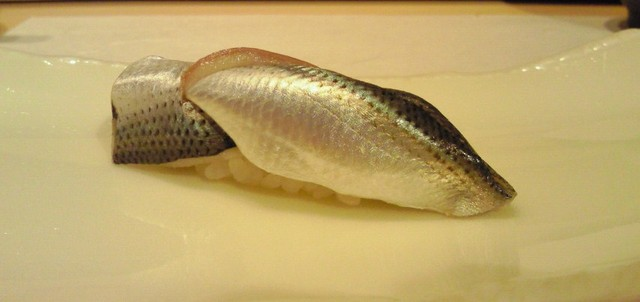spotted-shad: (108, 47, 518, 231)
